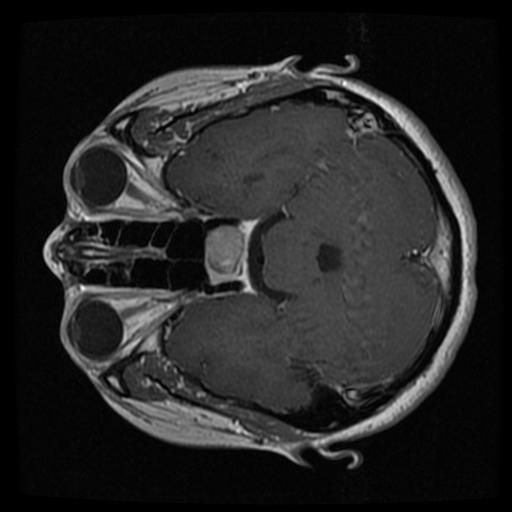pituitary tumour: (204, 225, 242, 276)
